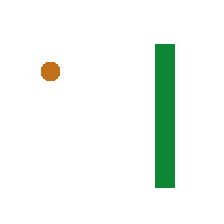circle: (41, 62, 59, 80)
rectangle: (155, 44, 174, 187)
